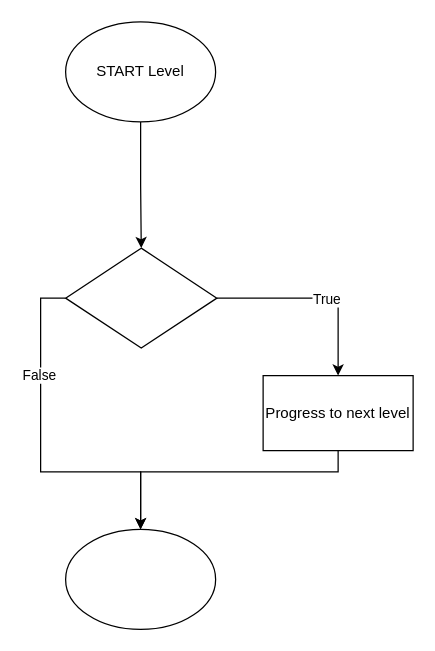
Image size: 435x651. Some labels were removed from this diagram. Here are the shapes that lost their labels. From the top down, the box of each, then its label:
(64, 247, 217, 348): player_coins = total_coins?
(64, 528, 216, 629): END Level
